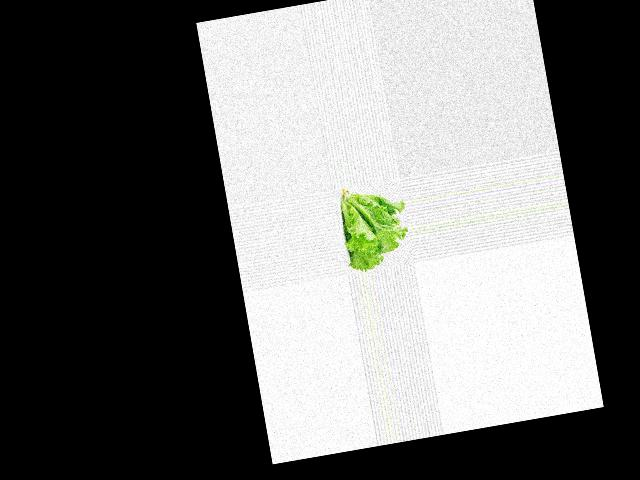lettuce: (337, 178, 413, 272)
